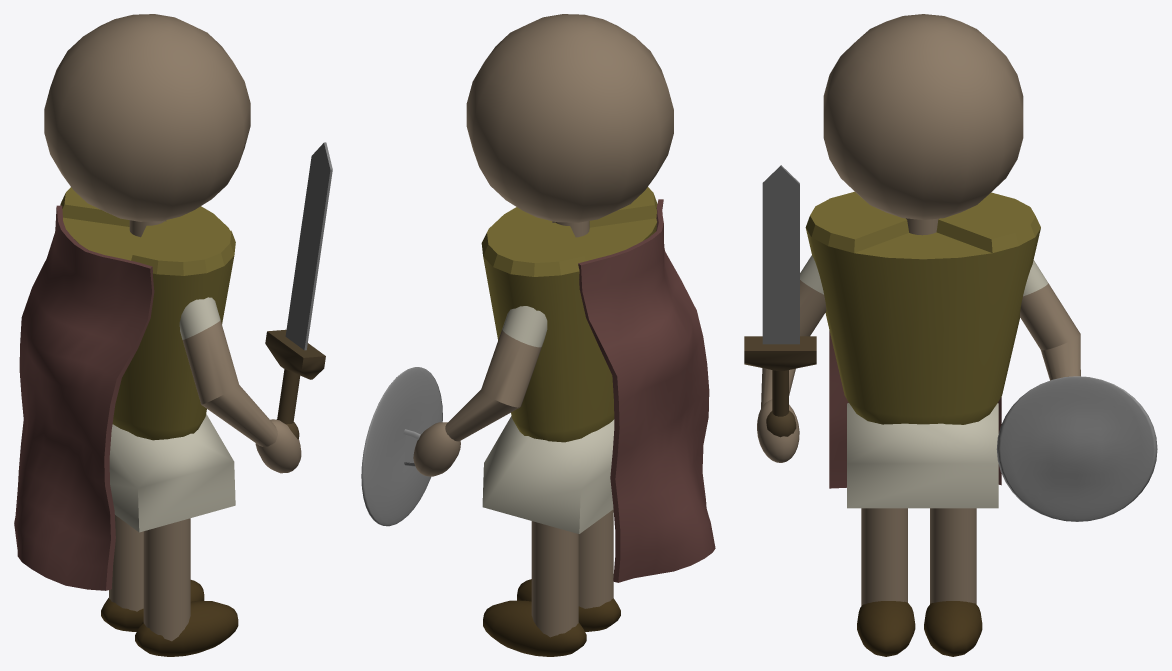
Rendered from Character.fbx.
3 views of the same model, side by side, from view 1: azimuth 30°, elevation 25°; view 2: azimuth 150°, elevation 25°; view 3: azimuth 270°, elevation 25° (orthographic).
Visible parts, largest first — view 1: pSphere7; view 2: pSphere7; view 3: pSphere7.
Part boxes in pixels (x1=…): pSphere7: x1=14, y1=14, x2=332, y2=656; pSphere7: x1=361, y1=14, x2=715, y2=656; pSphere7: x1=744, y1=14, x2=1157, y2=656.
Size of the model in its own units: 2.62 by 6.56 by 4.
